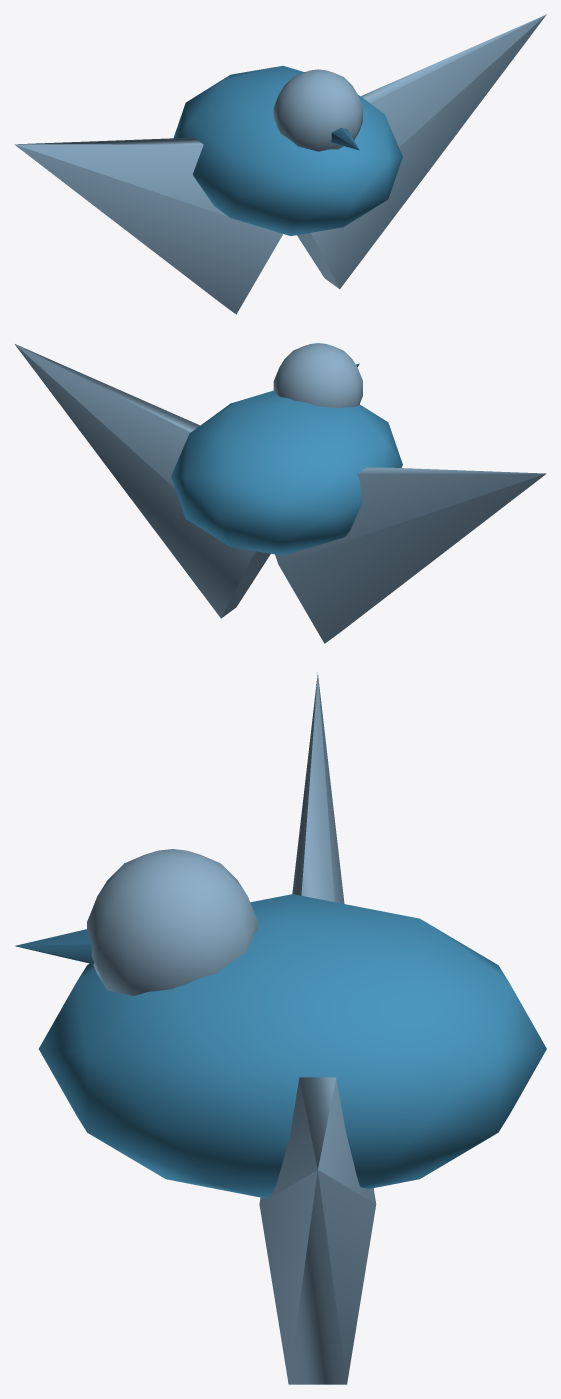
The model's file is wind_boss.glb.
3 renders of one model, top to bottom at view 1: azimuth 30°, elevation 25°; view 2: azimuth 150°, elevation 25°; view 3: azimuth 270°, elevation 25°, orthographic. The views are drawn at different scales.
Parts seen in each view (by area): view 1: BOSS_wind_roc_body, BOSS_wind_roc_wing_-1, BOSS_wind_roc_wing_1, BOSS_wind_roc_head, BOSS_wind_roc_beak; view 2: BOSS_wind_roc_body, BOSS_wind_roc_wing_-1, BOSS_wind_roc_wing_1, BOSS_wind_roc_head; view 3: BOSS_wind_roc_body, BOSS_wind_roc_wing_1, BOSS_wind_roc_head, BOSS_wind_roc_wing_-1, BOSS_wind_roc_beak.
Part boxes in pixels (bbox=[...]): BOSS_wind_roc_body: bbox=[173, 65, 402, 235]; BOSS_wind_roc_wing_-1: bbox=[14, 137, 282, 314]; BOSS_wind_roc_wing_1: bbox=[297, 14, 546, 289]; BOSS_wind_roc_head: bbox=[273, 69, 362, 151]; BOSS_wind_roc_beak: bbox=[331, 128, 359, 150]; BOSS_wind_roc_body: bbox=[171, 390, 402, 555]; BOSS_wind_roc_wing_-1: bbox=[275, 466, 546, 643]; BOSS_wind_roc_wing_1: bbox=[14, 344, 270, 618]; BOSS_wind_roc_head: bbox=[273, 343, 362, 408]; BOSS_wind_roc_body: bbox=[39, 894, 546, 1198]; BOSS_wind_roc_wing_1: bbox=[259, 1077, 376, 1384]; BOSS_wind_roc_head: bbox=[87, 849, 257, 995]; BOSS_wind_roc_wing_-1: bbox=[292, 672, 373, 1188]; BOSS_wind_roc_beak: bbox=[15, 929, 94, 964].
Bounding box in the file's own units: 7.05 × 3.17 × 3.19.
